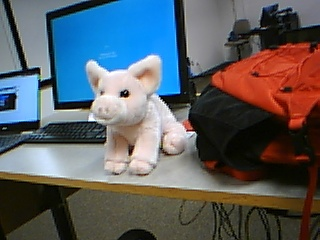piggy: (84, 54, 189, 177)
